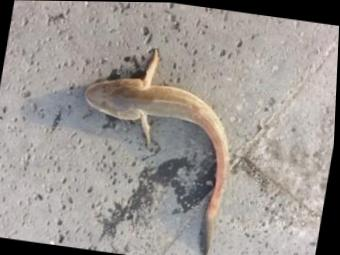fish: (86, 49, 229, 254)
